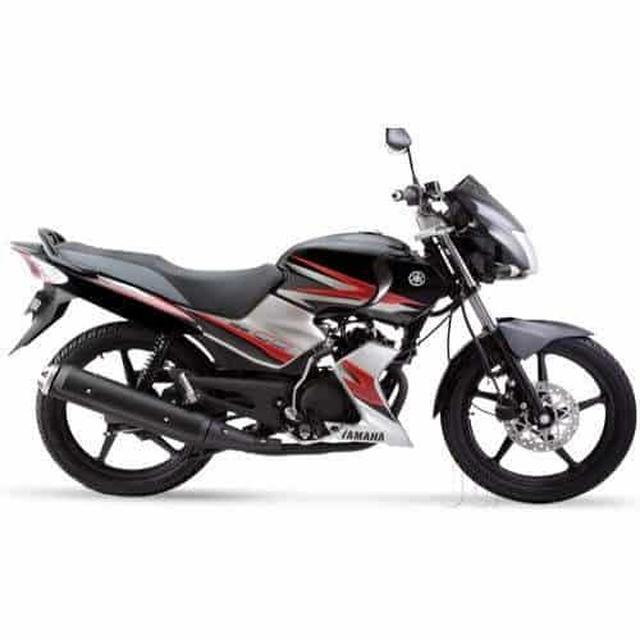motorcycle: (3, 117, 640, 508)
